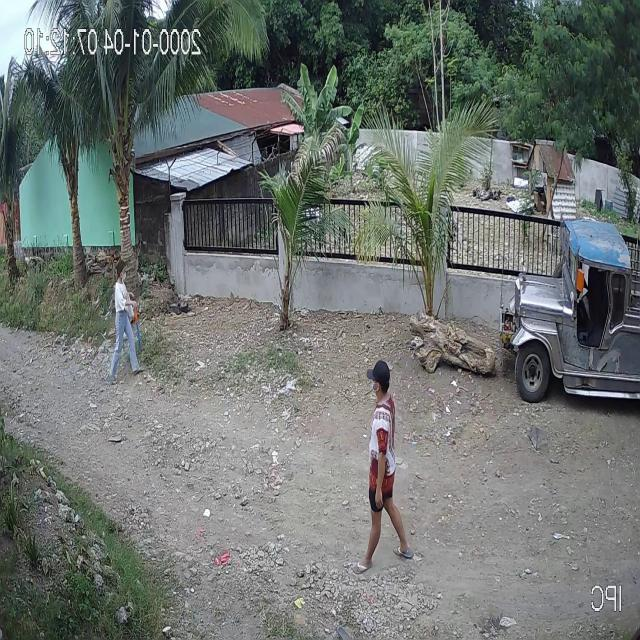walking: (352, 352, 414, 578), (106, 252, 148, 386)
